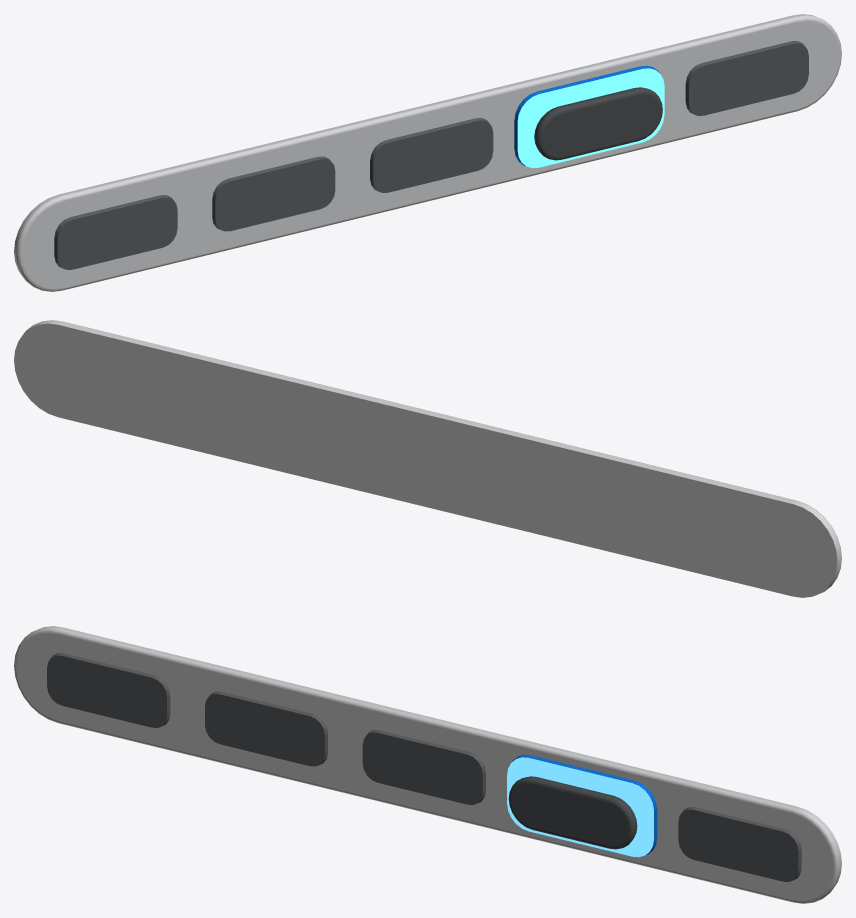
File: segmented-control-216cae.glb
3 renders of one model, top to bottom at view 1: azimuth 30°, elevation 25°; view 2: azimuth 150°, elevation 25°; view 3: azimuth 330°, elevation 25°, orthographic.
Parts seen in each view (by area): view 1: track, thumb, glow; view 2: track; view 3: track, thumb, glow.
Boxes of the visible parts, bbox=[...] form: track: bbox=[14, 14, 841, 291]; thumb: bbox=[534, 87, 662, 160]; glow: bbox=[517, 68, 664, 168]; track: bbox=[14, 320, 841, 597]; track: bbox=[14, 626, 841, 903]; thumb: bbox=[508, 776, 637, 849]; glow: bbox=[507, 757, 653, 857].
Size of the model in its own units: 0.366 by 0.04 by 0.0138.
